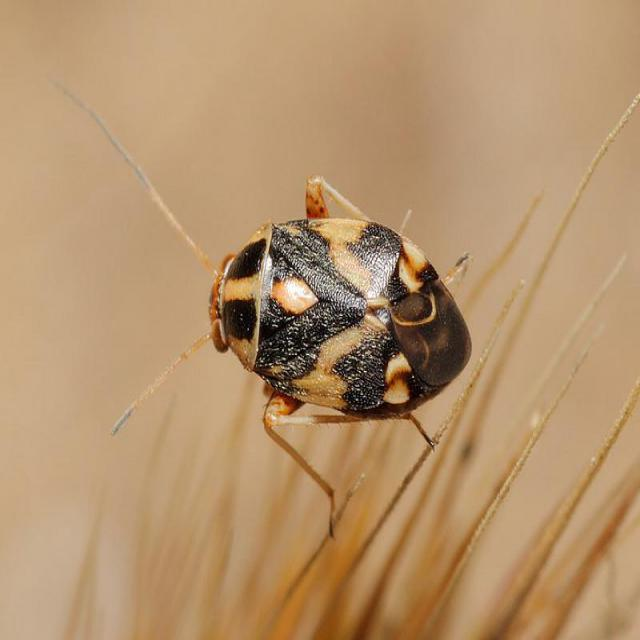Miridae-Adult-: (69, 89, 506, 502)
